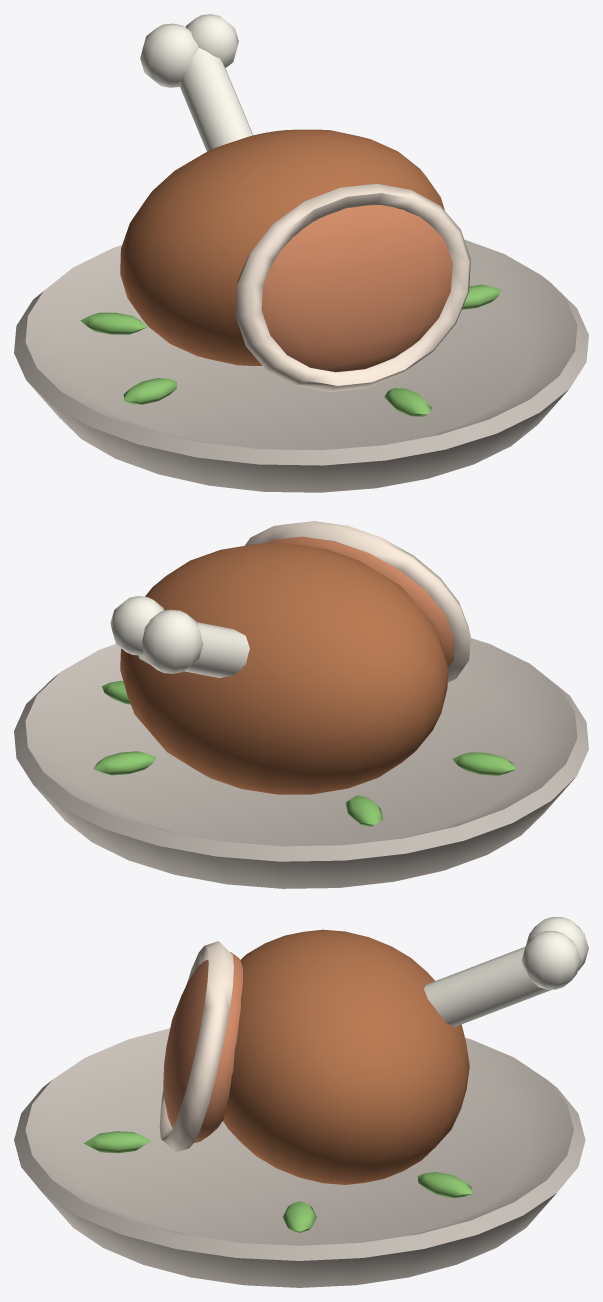
Rendered from food_ham.glb.
The picture shows the model from 3 angles, top to bottom: view 1: azimuth 30°, elevation 25°; view 2: azimuth 150°, elevation 25°; view 3: azimuth 270°, elevation 25°; orthographic projection.
Visible parts, largest first — view 1: food_ham; view 2: food_ham; view 3: food_ham.
Part boxes in pixels (x1=…): food_ham: x1=14, y1=14, x2=588, y2=492; food_ham: x1=14, y1=521, x2=588, y2=888; food_ham: x1=14, y1=917, x2=588, y2=1287.
Size of the model in its own units: 0.5 by 0.256 by 0.503.
